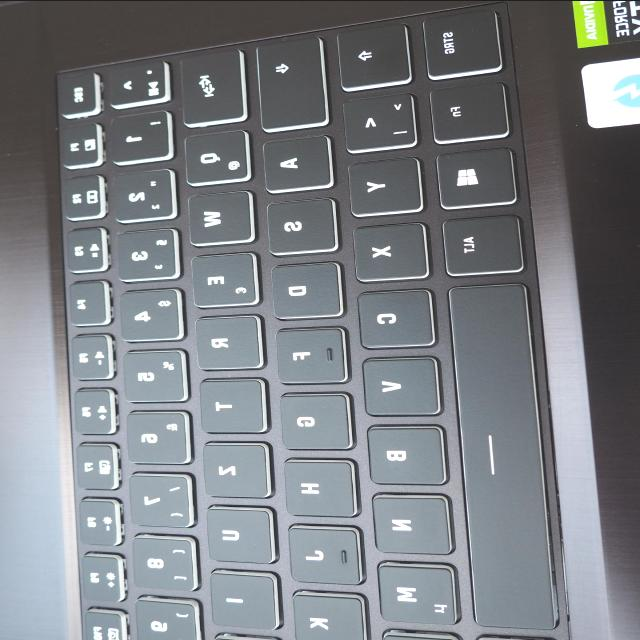1: (106, 108, 170, 162)
2: (108, 167, 174, 222)
3: (113, 224, 179, 280)
4: (116, 287, 181, 341)
5: (119, 348, 185, 403)
6: (122, 409, 188, 465)
7: (125, 470, 193, 527)
8: (127, 532, 197, 590)
9: (130, 597, 198, 640)
a: (259, 133, 332, 191)
alt-left: (441, 212, 521, 276)
b: (362, 422, 444, 486)
c: (354, 285, 434, 349)
caret: (103, 56, 169, 106)
d: (268, 259, 342, 320)
e: (187, 249, 257, 307)
f: (273, 324, 347, 384)
g: (276, 389, 350, 449)
h: (281, 455, 355, 517)
i: (206, 569, 276, 630)
j: (284, 523, 360, 585)
k: (291, 592, 367, 640)
keyboard: (41, 0, 585, 640)
less: (340, 89, 416, 153)
m: (373, 560, 455, 624)
n: (368, 491, 450, 555)
q: (181, 127, 251, 185)
r: (191, 312, 261, 370)
s: (264, 195, 338, 256)
shift-left: (335, 19, 411, 92)
shift-lock: (254, 31, 327, 131)
space: (446, 278, 554, 630)
strg-left: (420, 4, 502, 80)
t: (196, 376, 262, 433)
tab: (178, 43, 246, 126)
u: (202, 503, 272, 563)
v: (358, 353, 438, 417)
w: (182, 188, 252, 246)
x: (349, 220, 427, 282)
y: (345, 154, 421, 216)
z: (198, 440, 268, 498)
